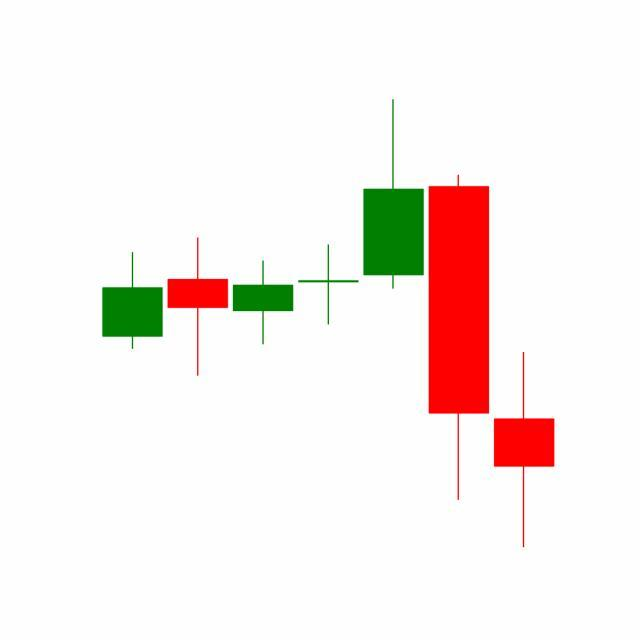Three Outside Up-Down: (360, 99, 556, 549)
